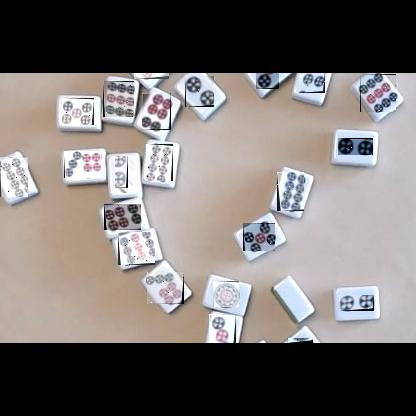1p: (213, 281, 239, 307), (287, 338, 313, 343)
2p: (185, 76, 214, 107), (116, 157, 133, 193), (338, 138, 373, 155), (339, 295, 374, 311)
3p: (209, 314, 236, 343), (256, 73, 279, 89)
4p: (299, 73, 325, 93)
5p: (243, 223, 275, 251), (62, 98, 94, 125)
6p: (142, 93, 171, 130), (104, 204, 141, 230), (134, 73, 169, 79)
7p: (147, 272, 184, 304), (64, 151, 101, 178)
8p: (0, 157, 28, 197), (277, 172, 304, 211), (146, 144, 173, 181)
9p: (360, 74, 396, 112), (118, 232, 155, 265), (103, 81, 134, 117)
